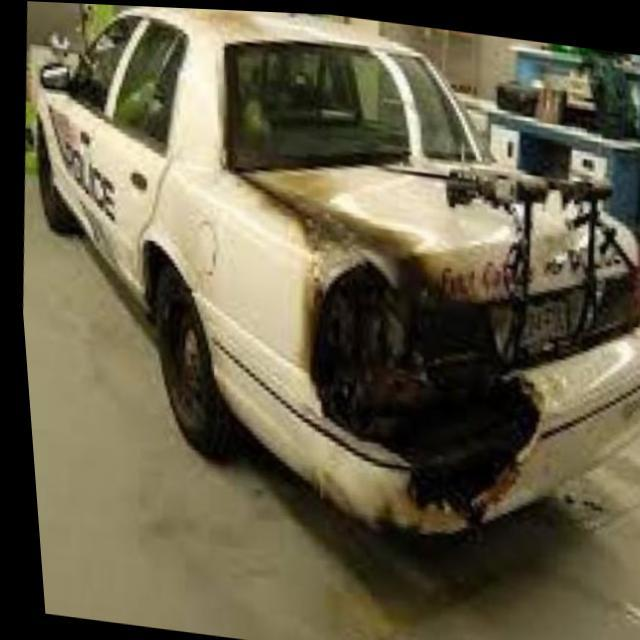no part: (289, 246, 561, 533)
